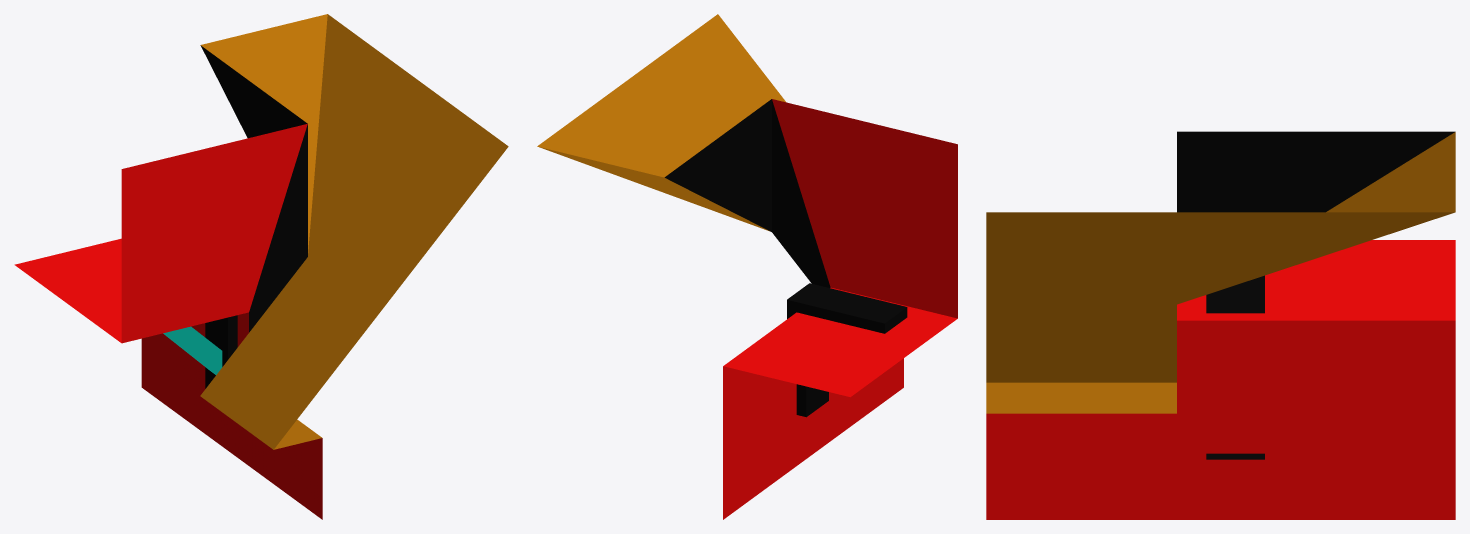
3 renders of one model, left to right at view 1: azimuth 30°, elevation 25°; view 2: azimuth 150°, elevation 25°; view 3: azimuth 270°, elevation 25°, orthographic. The views are drawn at different scales.
Parts seen in each view (by area): view 1: None_S_S_E_E_E_E_A_E_None; view 2: None_S_S_E_E_E_E_A_E_None; view 3: None_S_S_E_E_E_E_A_E_None.
Boxes of the visible parts, bbox=[...] form: None_S_S_E_E_E_E_A_E_None: bbox=[14, 14, 508, 519]; None_S_S_E_E_E_E_A_E_None: bbox=[537, 14, 957, 519]; None_S_S_E_E_E_E_A_E_None: bbox=[986, 131, 1455, 519].
Bounding box in the file's own units: 100 × 100 × 100.
